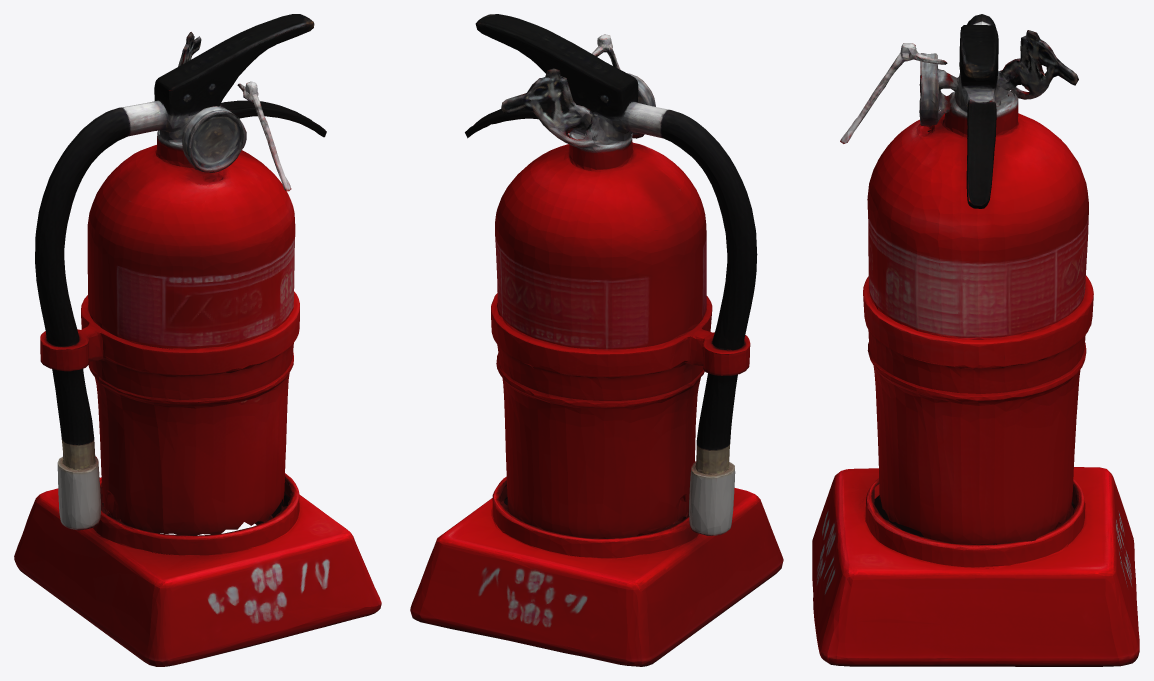
Rendered from fire_ext_glb.glb.
3 views of the same model, side by side, from view 1: azimuth 30°, elevation 25°; view 2: azimuth 150°, elevation 25°; view 3: azimuth 270°, elevation 25° (orthographic). The views are drawn at different scales.
Parts seen in each view (by area): view 1: world; view 2: world; view 3: world.
Boxes of the visible parts, x1,y1,x2,y2 form: world: (14, 14, 381, 666); world: (410, 14, 783, 666); world: (812, 14, 1139, 666).
Bounding box in the file's own units: 0.5453 × 0.9965 × 0.4941.
1 material, 1 textured.
